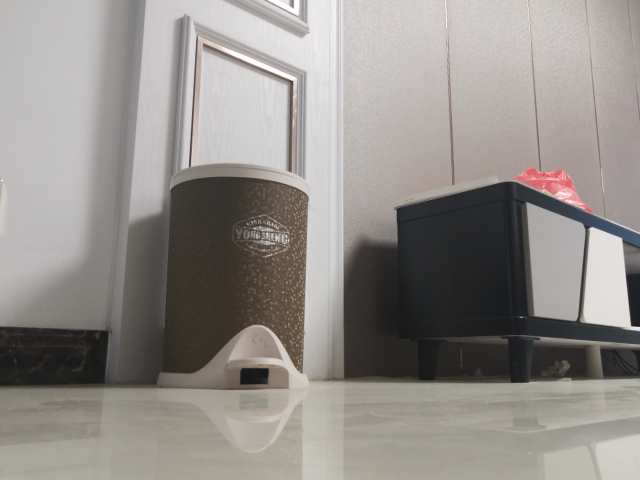cabinet: (392, 173, 640, 385)
trashcan: (153, 159, 313, 392)
